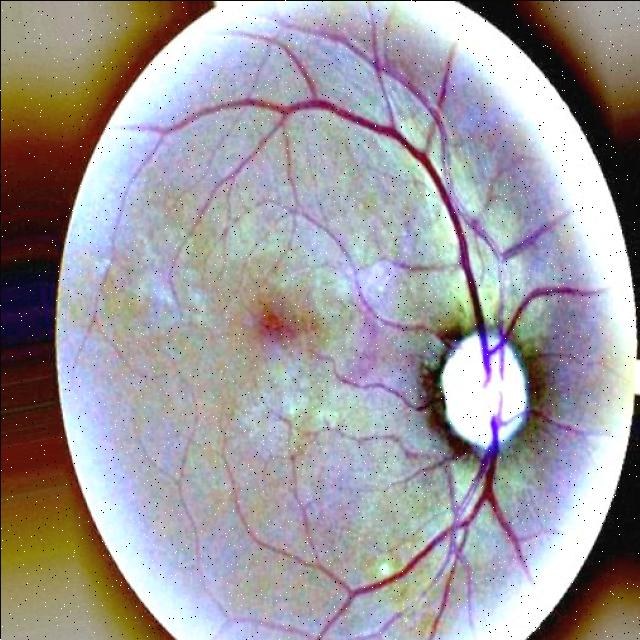Macula: (234, 281, 316, 354)
Nerves: (190, 74, 507, 389), (342, 404, 504, 622)
Optic Disk: (436, 326, 541, 454)
